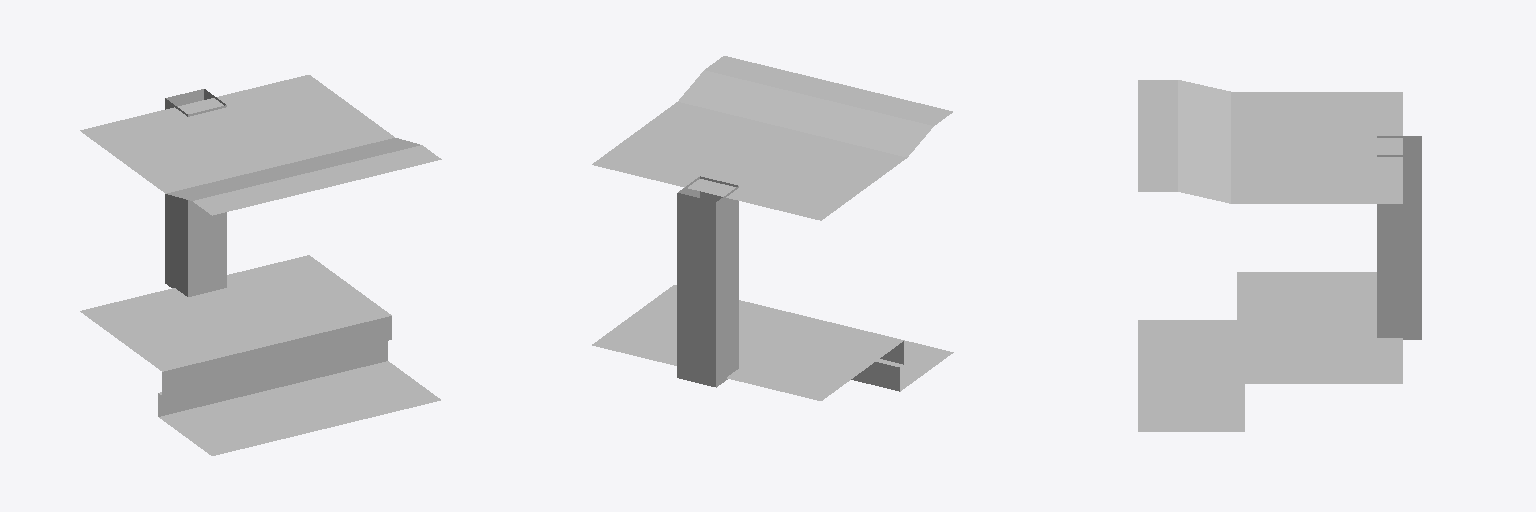
The picture shows the model from 3 angles: view 1: azimuth 30°, elevation 25°; view 2: azimuth 150°, elevation 25°; view 3: azimuth 270°, elevation 25°; orthographic projection.
Parts seen in each view (by area): view 1: objobjDuplicate01; view 2: objobjDuplicate01; view 3: objobjDuplicate01.
Boxes of the visible parts, <box> form: objobjDuplicate01: <box>80,75,441,455</box>; objobjDuplicate01: <box>592,56,953,400</box>; objobjDuplicate01: <box>1138,80,1421,431</box>.
Size of the model in its own units: 10 by 10 by 10.7.